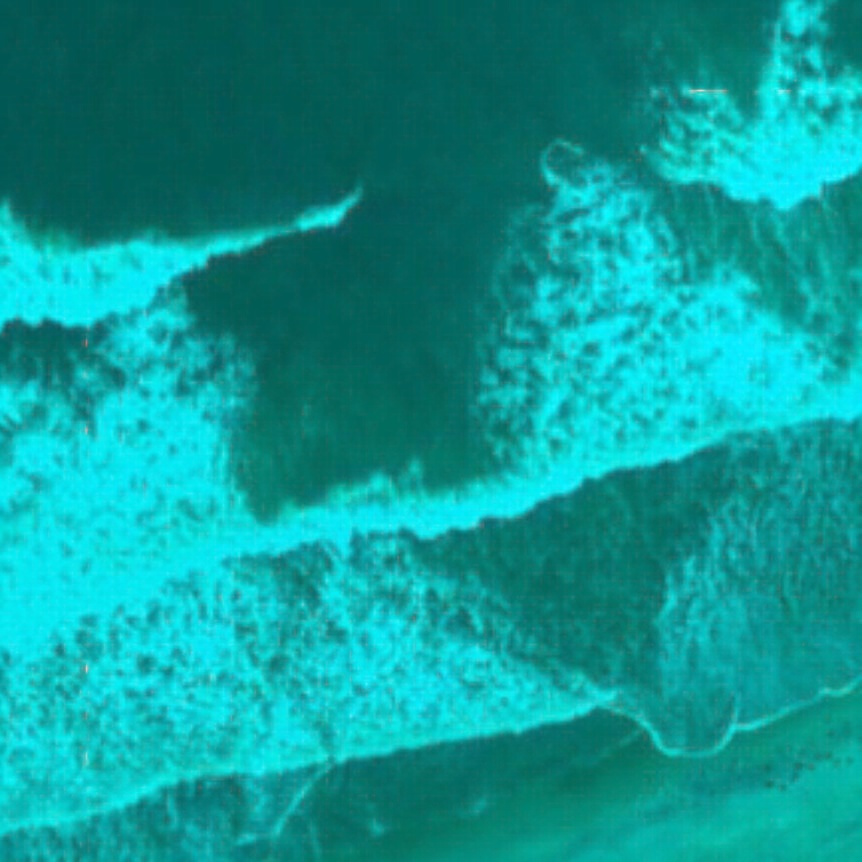rip_current: (150, 186, 677, 680)
